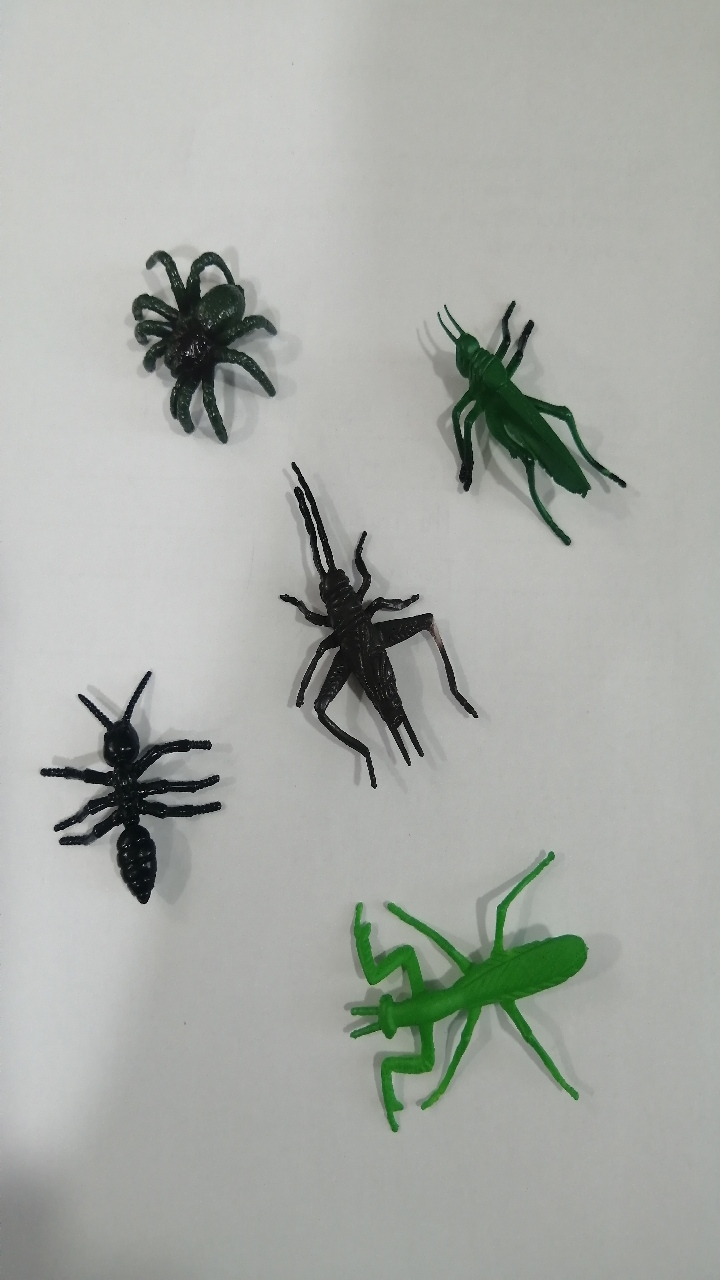intruso: (288, 834, 655, 1148), (252, 451, 488, 795), (397, 266, 646, 571), (20, 640, 228, 928), (95, 202, 289, 449)
